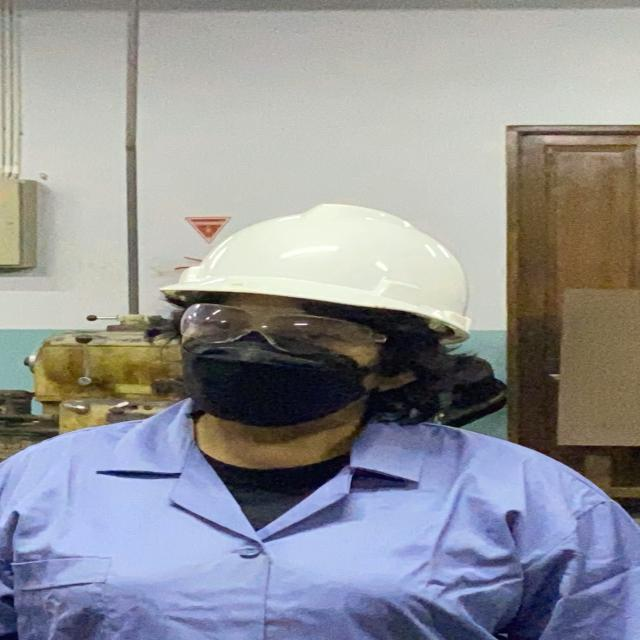face_mask: (163, 306, 390, 426)
glasses: (166, 300, 436, 354)
head_helmet: (155, 197, 475, 308)
person: (0, 191, 640, 640)
